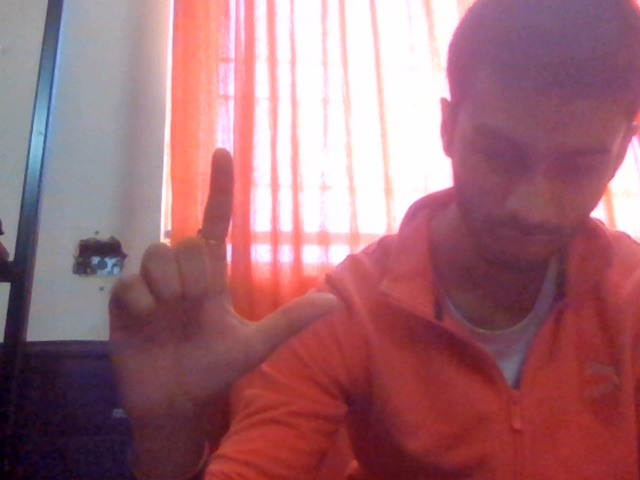L: (69, 123, 357, 480)
